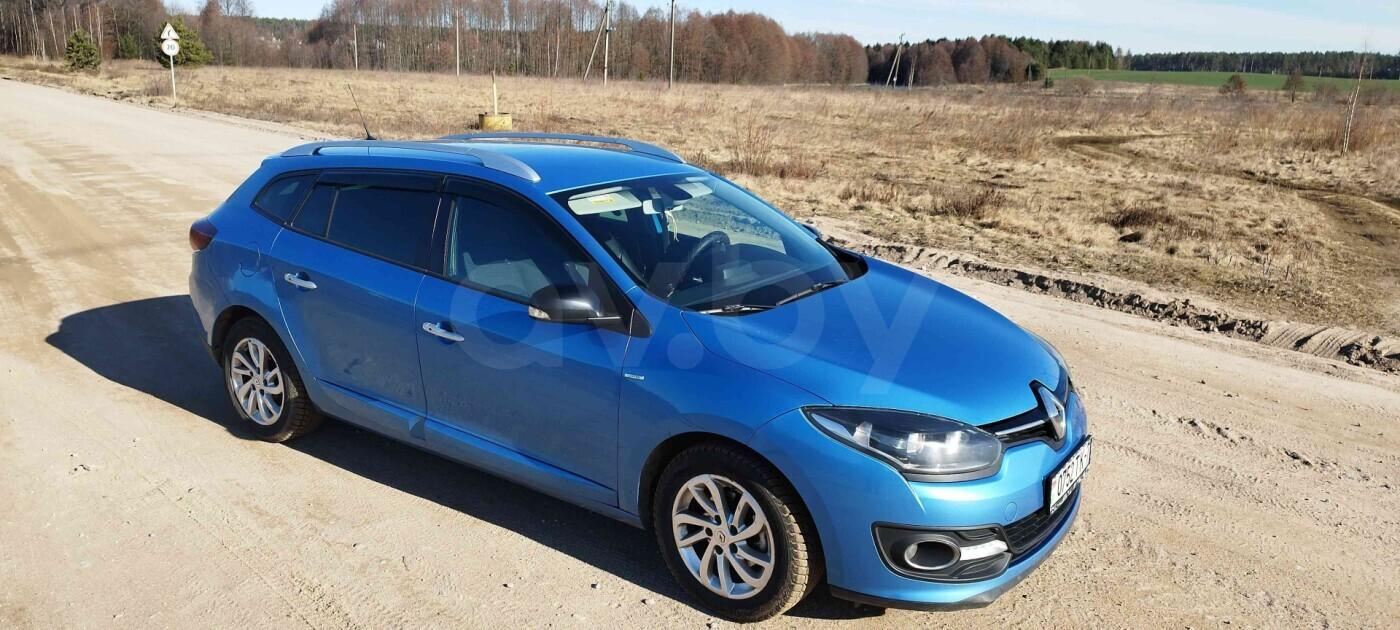Megane_2014-2016: (186, 129, 1105, 619)
